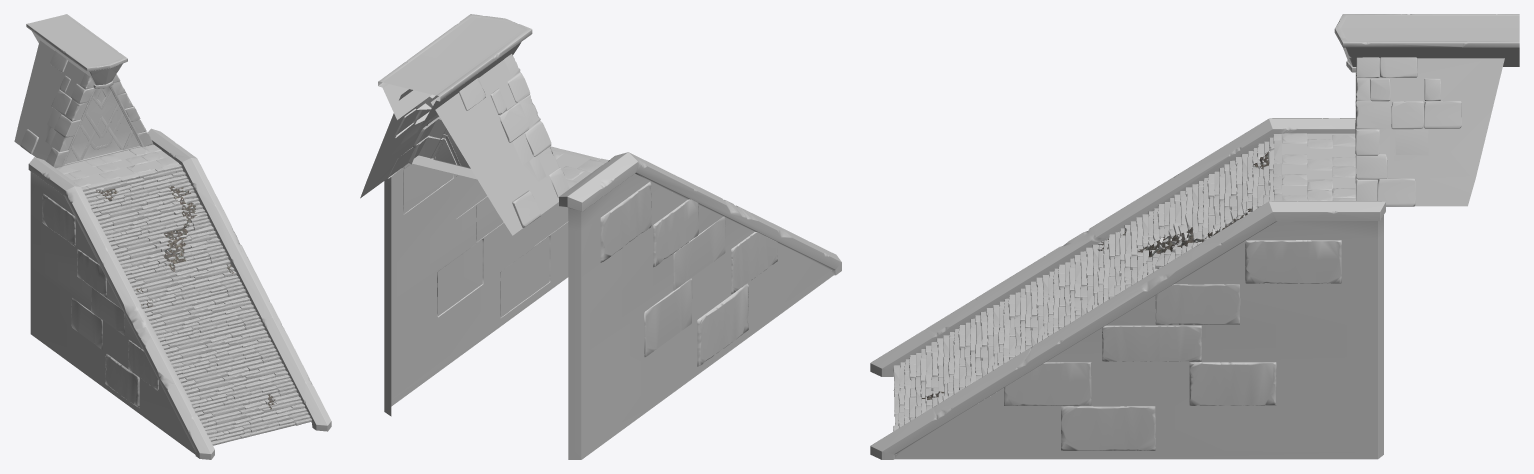
3 views of the same model, side by side, from view 1: azimuth 30°, elevation 25°; view 2: azimuth 150°, elevation 25°; view 3: azimuth 270°, elevation 25° (orthographic). The views are drawn at different scales.
Parts seen in each view (by area): view 1: SM_DK_Pyramid_Entrance_01v1_LOD0; view 2: SM_DK_Pyramid_Entrance_01v1_LOD0; view 3: SM_DK_Pyramid_Entrance_01v1_LOD0.
Part boxes in pixels (bbox=[...]): SM_DK_Pyramid_Entrance_01v1_LOD0: bbox=[14, 14, 331, 459]; SM_DK_Pyramid_Entrance_01v1_LOD0: bbox=[360, 14, 841, 459]; SM_DK_Pyramid_Entrance_01v1_LOD0: bbox=[870, 14, 1519, 459].
Bounding box in the file's own units: 12.03 × 22.93 × 35.08.
